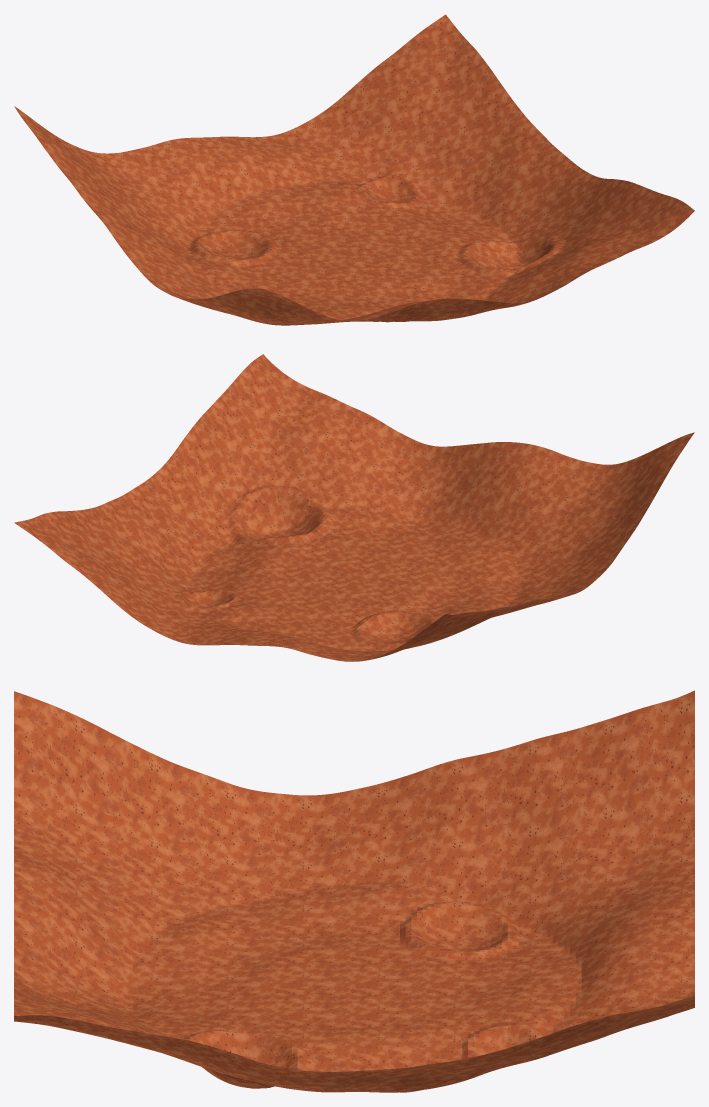
File: terreno-marte.glb
3 renders of one model, top to bottom at view 1: azimuth 30°, elevation 25°; view 2: azimuth 150°, elevation 25°; view 3: azimuth 270°, elevation 25°, orthographic. The views are drawn at different scales.
Visible parts, largest first — view 1: terreno-marte; view 2: terreno-marte; view 3: terreno-marte.
Boxes of the visible parts, x1,y1,x2,y2 form: terreno-marte: [14, 14, 694, 325]; terreno-marte: [14, 354, 694, 661]; terreno-marte: [14, 690, 694, 1092].
Size of the model in its own units: 90 by 24.76 by 90.
Materials: 1 (1 with a texture image).
